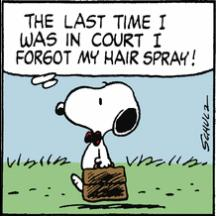snoopy: (54, 80, 140, 202)
